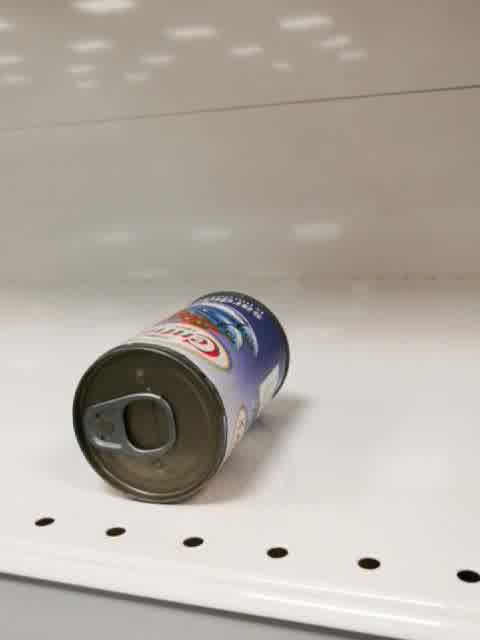sardine: (71, 290, 290, 506)
